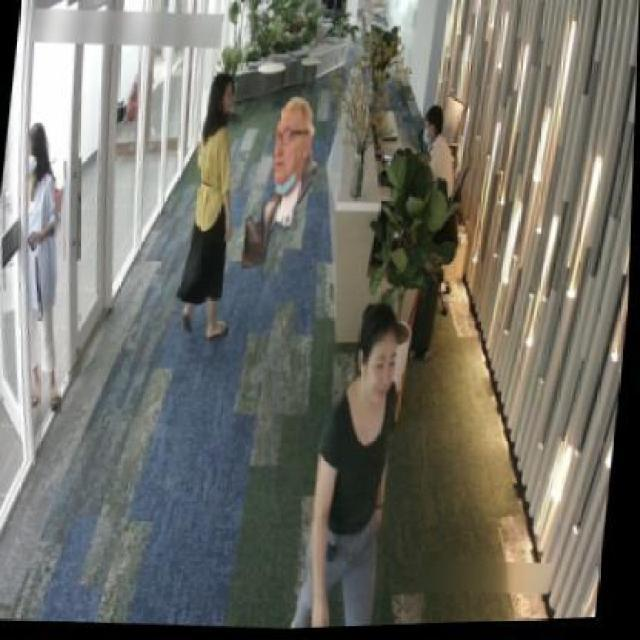hairnet: (272, 110, 303, 193)
